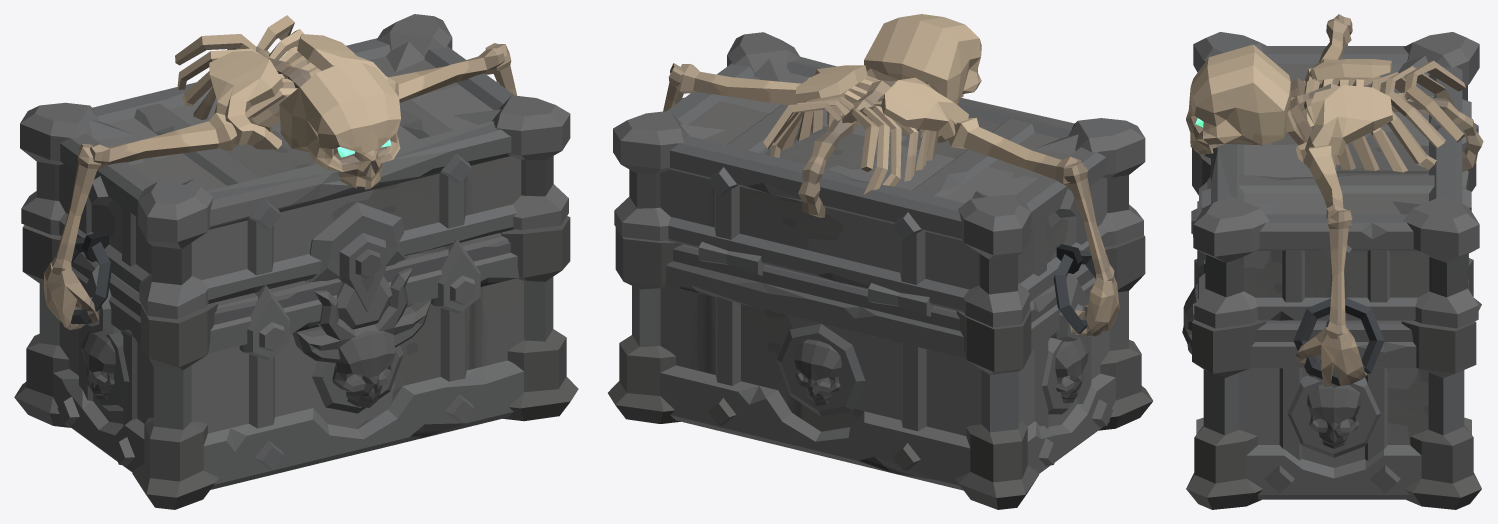
File: chest.gltf
3 renders of one model, left to right at view 1: azimuth 30°, elevation 25°; view 2: azimuth 150°, elevation 25°; view 3: azimuth 270°, elevation 25°, orthographic. The views are drawn at different scales.
Visible parts, largest first — view 1: chest; view 2: chest; view 3: chest.
Boxes of the visible parts, x1,y1,x2,y2 form: chest: (14, 14, 578, 509); chest: (608, 14, 1152, 509); chest: (1182, 14, 1483, 509).
Size of the model in its own units: 1.26 by 0.9218 by 0.6957.
2 materials, 2 textured.
